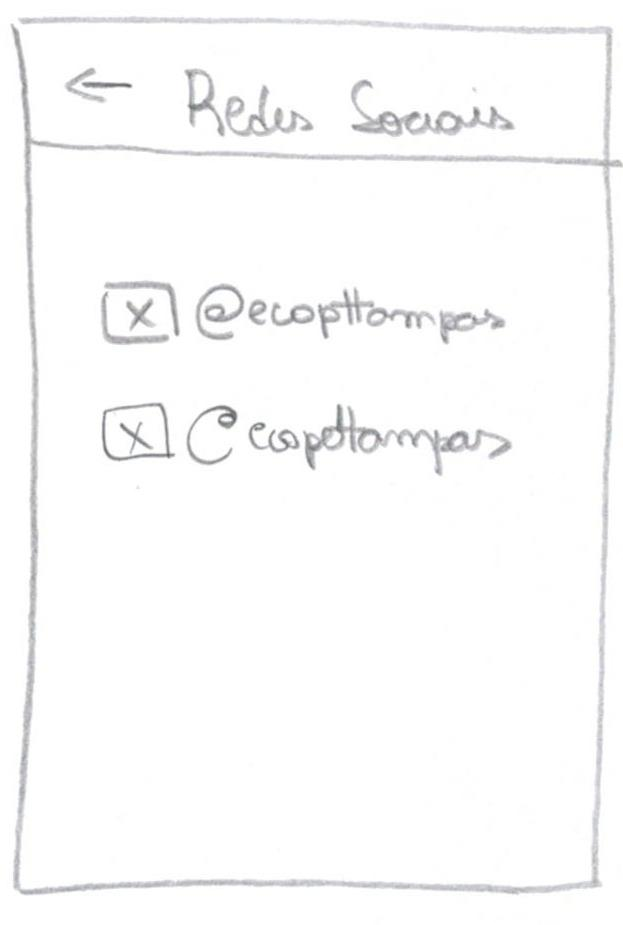Button: (63, 66, 136, 104)
CheckBox: (100, 401, 514, 471), (98, 281, 508, 347)
Label: (185, 67, 516, 140)
Screen: (11, 17, 613, 897)
